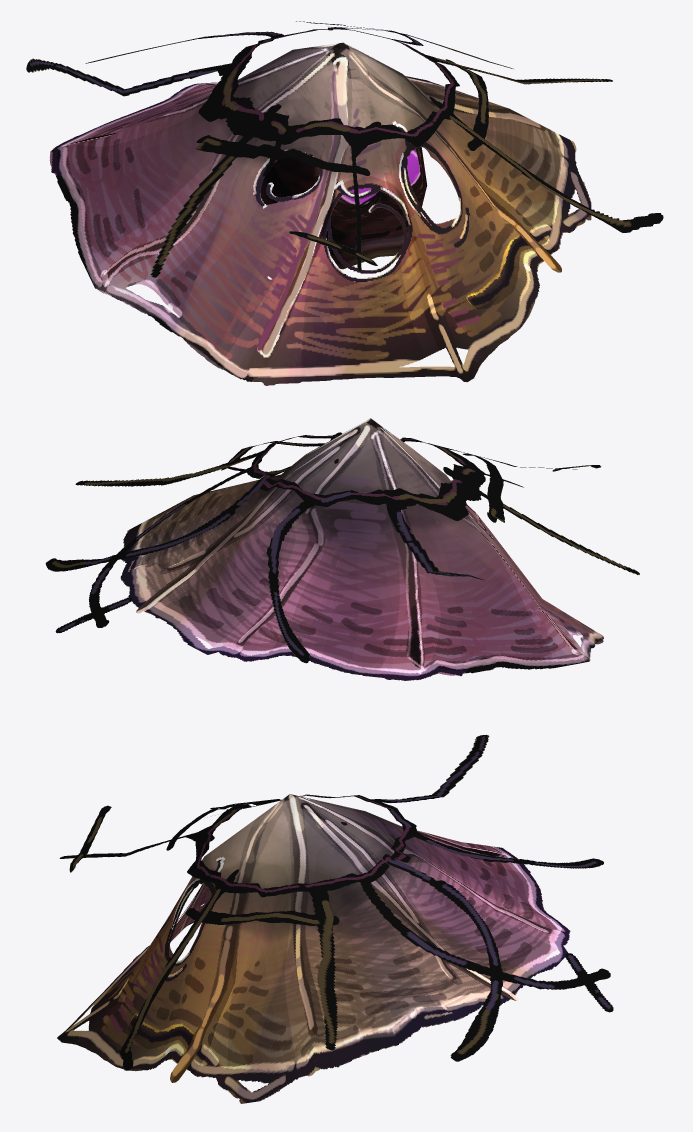
Rendered from wideHat.fbx.
3 renders of one model, top to bottom at view 1: azimuth 30°, elevation 25°; view 2: azimuth 150°, elevation 25°; view 3: azimuth 270°, elevation 25°, orthographic. The views are drawn at different scales.
Parts seen in each view (by area): view 1: Cone; view 2: Cone; view 3: Cone.
Part boxes in pixels (left/top/right/bottom): Cone: left=26, top=21, right=663, bottom=385; Cone: left=45, top=418, right=639, bottom=680; Cone: left=57, top=734, right=613, bottom=1103.
Size of the model in its own units: 100 by 40.9 by 101.
1 material, 1 textured.
